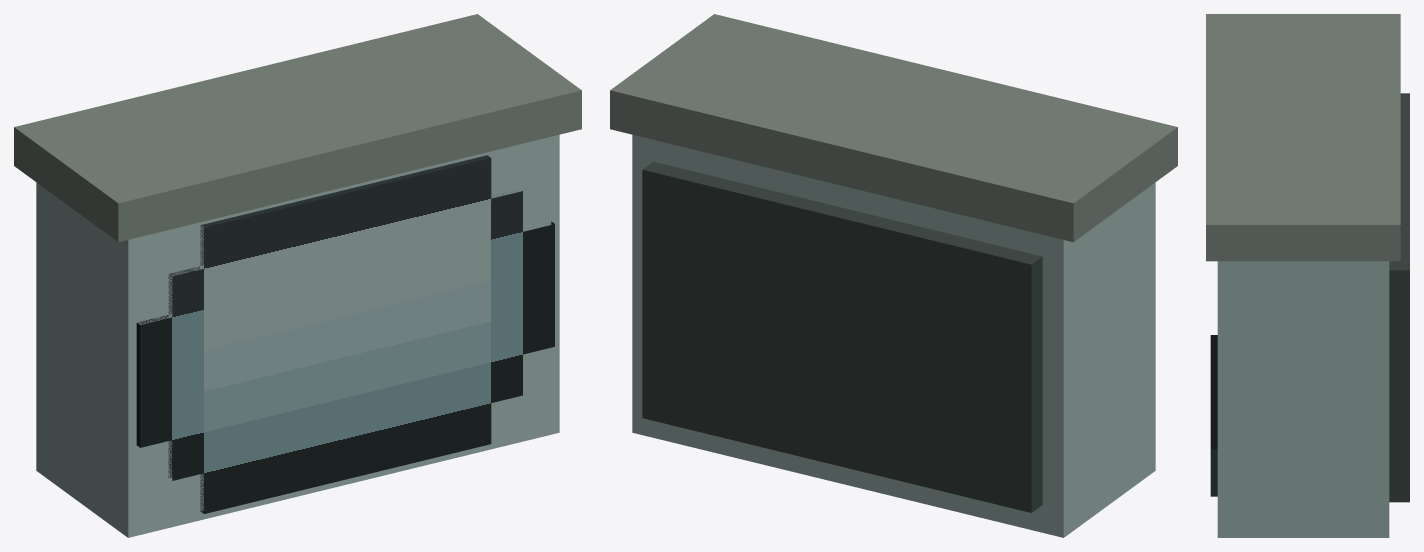
Rendered from CMU3DInteriorVehicleViewportSimple.glb.
3 views of the same model, side by side, from view 1: azimuth 30°, elevation 25°; view 2: azimuth 150°, elevation 25°; view 3: azimuth 270°, elevation 25° (orthographic). The views are drawn at different scales.
Visible parts, largest first — view 1: source equipment controls, reinforced top, closed equipment casing; view 2: rear service plate, reinforced top, closed equipment casing; view 3: reinforced top, closed equipment casing, rear service plate, source equipment controls.
Part boxes in pixels (left/top/right/bottom): source equipment controls: left=136, top=155, right=554, bottom=513; reinforced top: left=14, top=14, right=581, bottom=242; closed equipment casing: left=36, top=134, right=559, bottom=537; rear service plate: left=642, top=161, right=1042, bottom=512; reinforced top: left=610, top=14, right=1177, bottom=242; closed equipment casing: left=632, top=134, right=1155, bottom=537; reinforced top: left=1206, top=14, right=1400, bottom=261; closed equipment casing: left=1217, top=261, right=1389, bottom=537; rear service plate: left=1389, top=93, right=1409, bottom=502; source equipment controls: left=1210, top=335, right=1217, bottom=496.
Bounding box in the file's own units: 0.4363 × 0.3084 × 0.178.
Materials: 4 (1 with a texture image).
